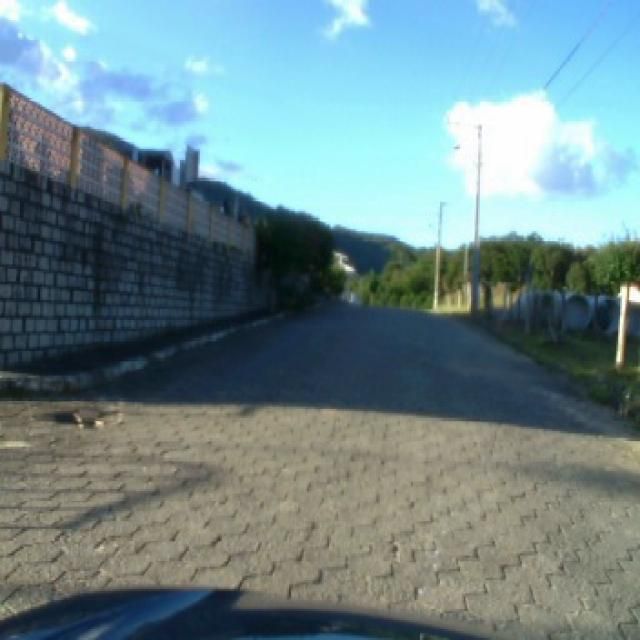Poth-hole: (27, 400, 122, 429)
